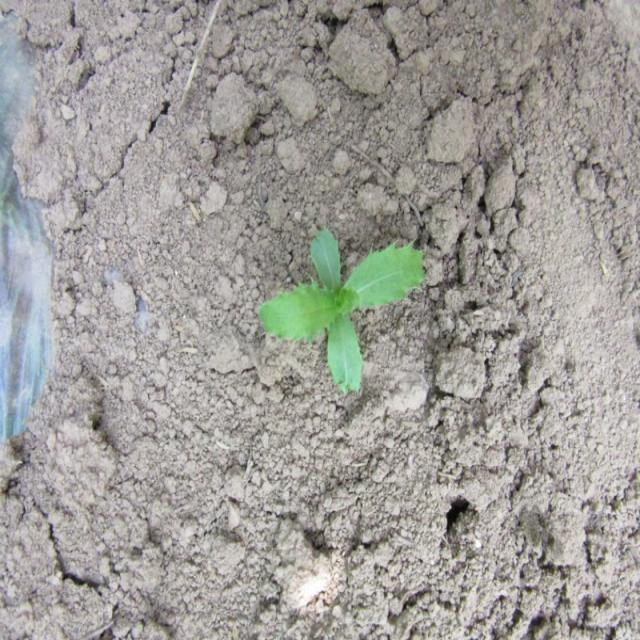field_thistle: (253, 214, 422, 388)
